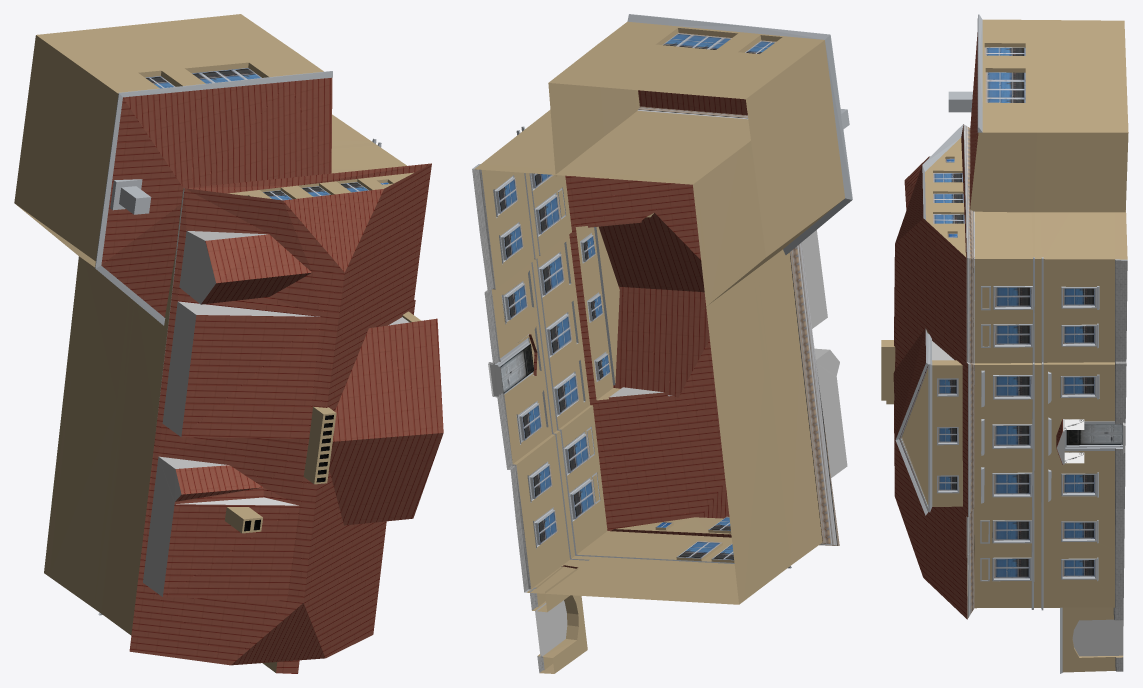
File: Uus_29_1.obj
3 views of the same model, side by side, from view 1: azimuth 30°, elevation 25°; view 2: azimuth 150°, elevation 25°; view 3: azimuth 270°, elevation 25° (orthographic). The views are drawn at different scales.
Parts seen in each view (by area): view 1: Uus29_1; view 2: Uus29_1; view 3: Uus29_1.
Boxes of the visible parts, box(x1,y1,x2,y2) form: Uus29_1: box(14, 14, 443, 673); Uus29_1: box(472, 14, 852, 673); Uus29_1: box(881, 14, 1128, 673).
Bounding box in the file's own units: 18.57 × 36.15 × 14.29.
